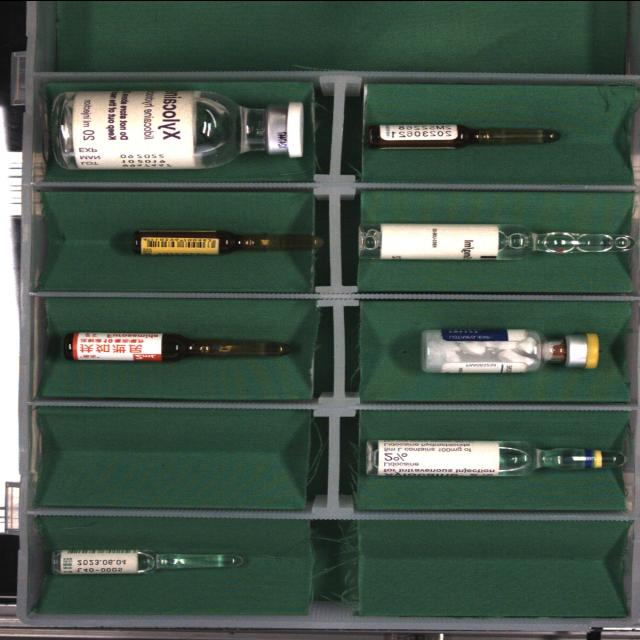Vials: (53, 89, 304, 169), (422, 330, 599, 372)
